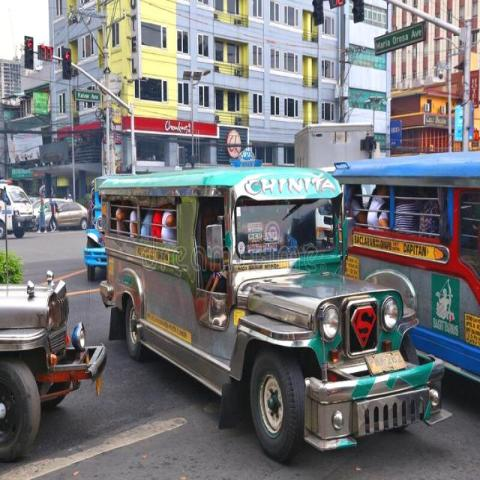car: (36, 196, 90, 232)
jeepney: (97, 167, 454, 454), (343, 155, 480, 379)
